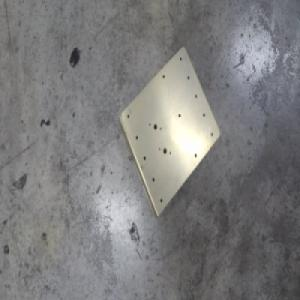MetalSheet: (117, 44, 221, 219)
